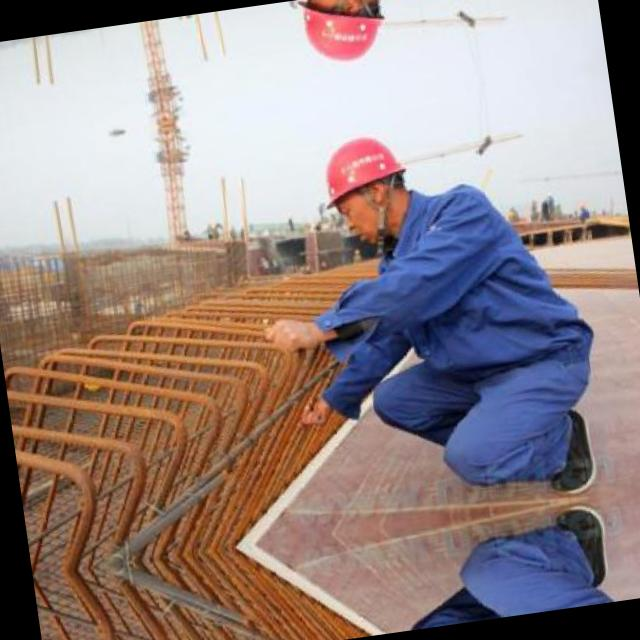helmet: (302, 122, 427, 244), (283, 0, 405, 78)
